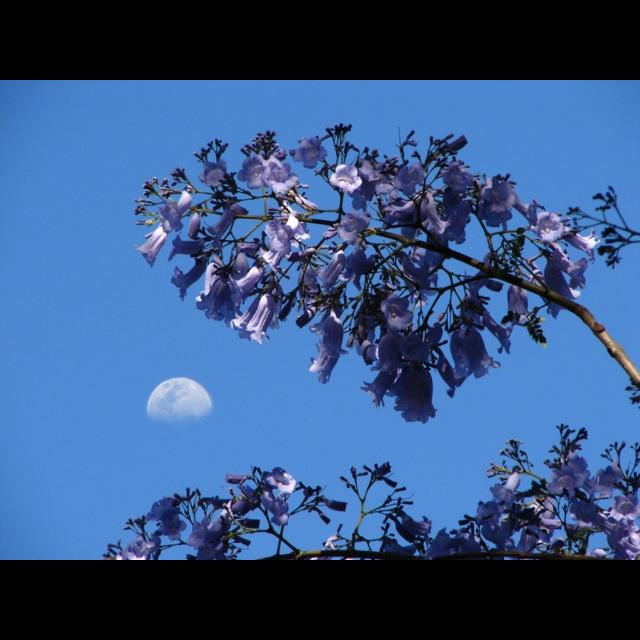Flower: (139, 157, 603, 426), (105, 458, 640, 558), (330, 160, 364, 196)
